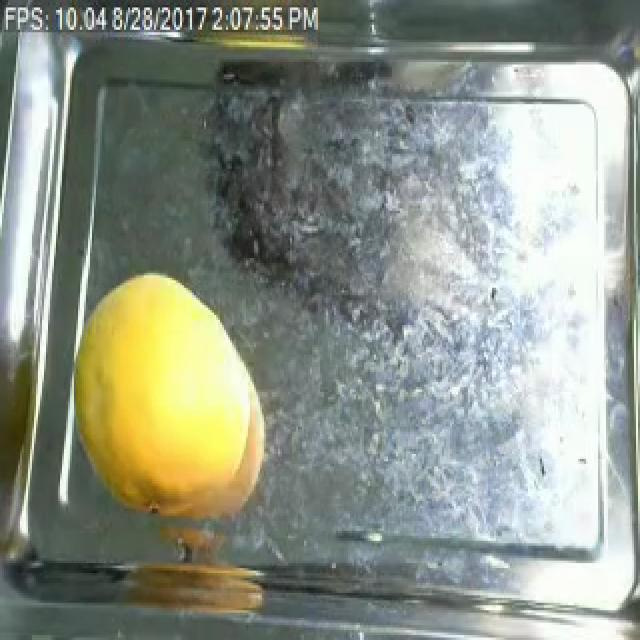fruit: (54, 260, 280, 536)
